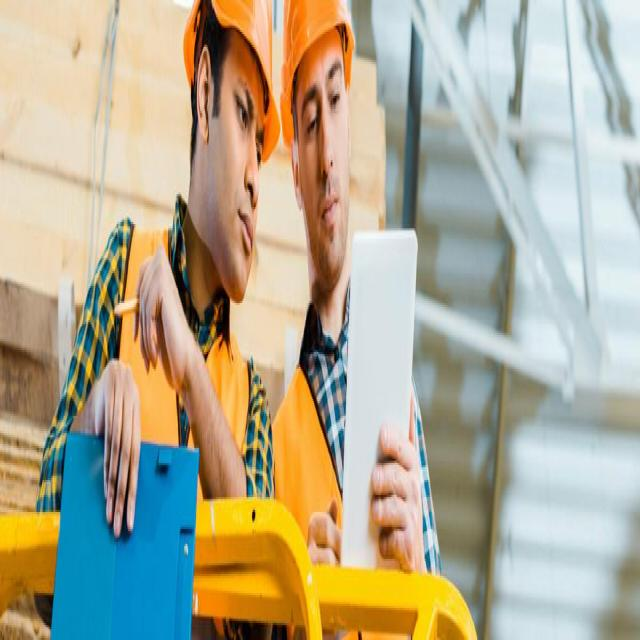Safety-Helmet: (180, 0, 281, 164), (284, 2, 356, 88)
